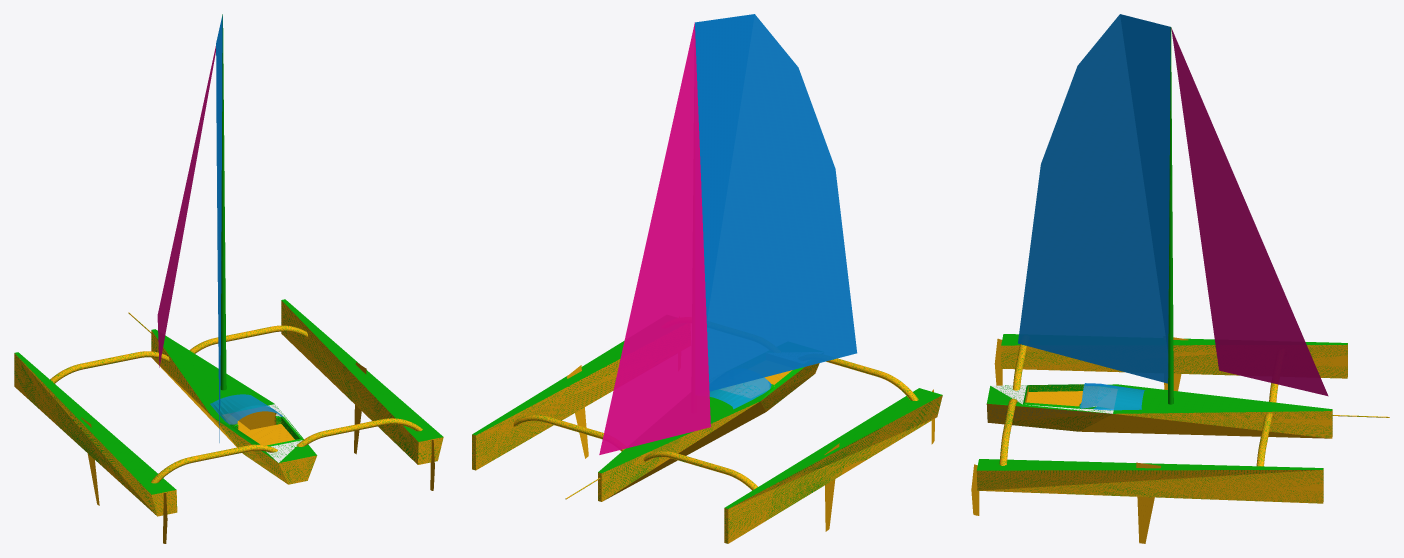
File: foc_tribord_trimaran.dae
The picture shows the model from 3 angles, left to right: view 1: azimuth 30°, elevation 25°; view 2: azimuth 150°, elevation 25°; view 3: azimuth 270°, elevation 25°; orthographic projection. The views are drawn at different scales.
Visible parts, largest first — view 1: SketchUp (×17); view 2: SketchUp (×14); view 3: SketchUp (×16).
Boxes of the visible parts, left/top/right/bottom form: SketchUp (×17): left=14, top=14, right=443, bottom=516; SketchUp (×14): left=472, top=14, right=942, bottom=543; SketchUp (×16): left=976, top=14, right=1347, bottom=543.
Size of the model in its own units: 90181 by 111154 by 135025.
Materials: 21 (5 with a texture image).
